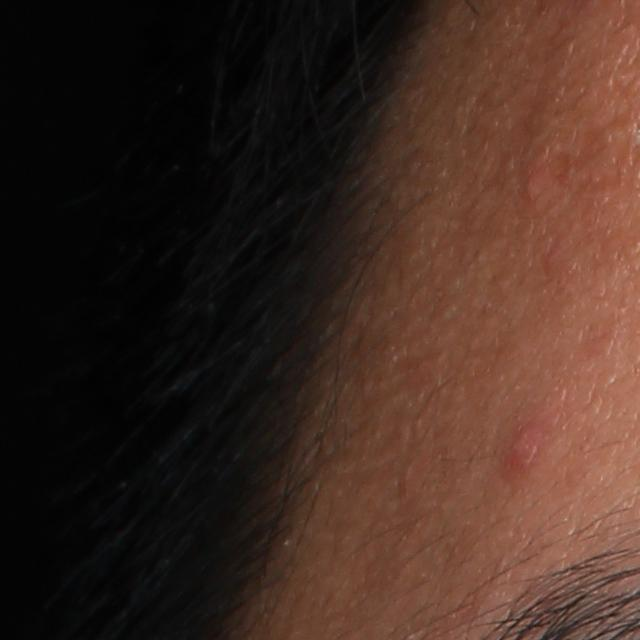papule: (500, 419, 550, 479), (524, 167, 548, 206)
